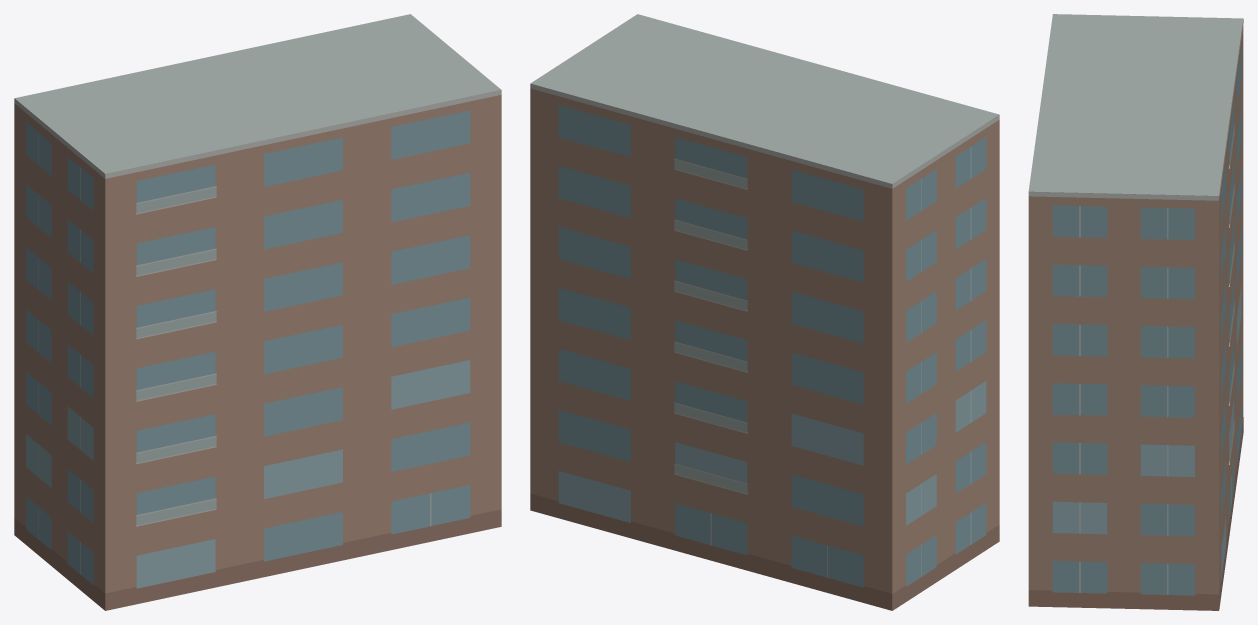
File: survey-upis-32982949.glb
3 views of the same model, side by side, from view 1: azimuth 30°, elevation 25°; view 2: azimuth 150°, elevation 25°; view 3: azimuth 270°, elevation 25° (orthographic). The views are drawn at different scales.
Parts seen in each view (by area): view 1: survey-upis-32982949.tmp; view 2: survey-upis-32982949.tmp; view 3: survey-upis-32982949.tmp.
Part boxes in pixels (x1,y1,x2,y2): survey-upis-32982949.tmp: [14, 14, 501, 610]; survey-upis-32982949.tmp: [530, 14, 999, 610]; survey-upis-32982949.tmp: [1028, 14, 1243, 610].
Size of the model in its own units: 20.1 by 21.35 by 10.03.
